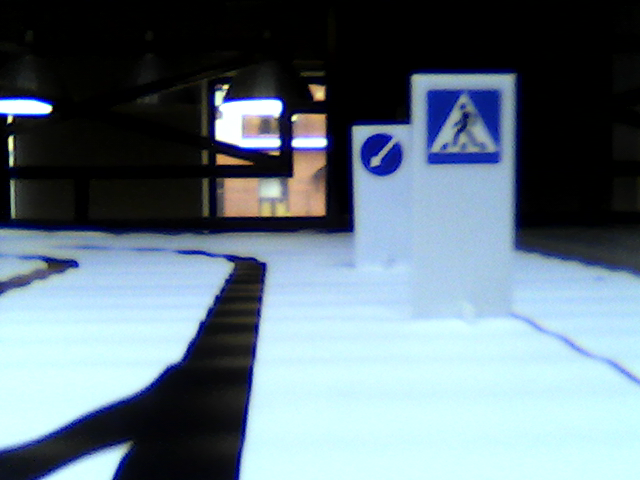pesh: (429, 89, 499, 164)
prep: (360, 132, 403, 177)
